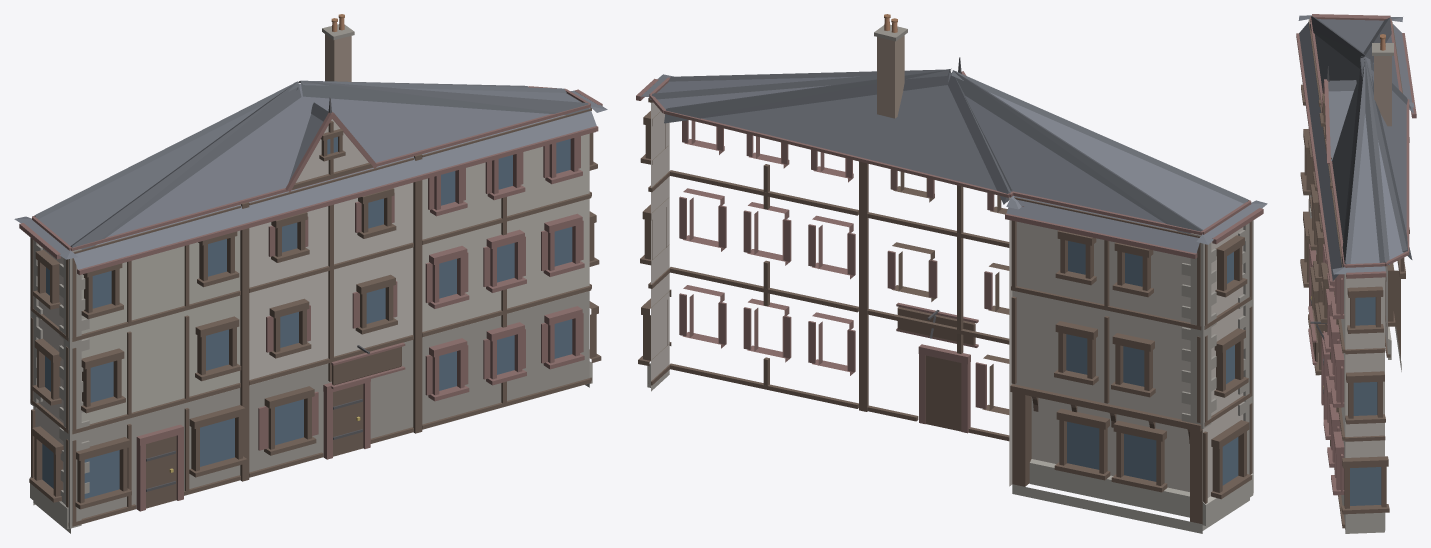
3 views of the same model, side by side, from view 1: azimuth 30°, elevation 25°; view 2: azimuth 150°, elevation 25°; view 3: azimuth 270°, elevation 25° (orthographic). The views are drawn at different scales.
Parts seen in each view (by area): view 1: B052_visible; view 2: B052_visible; view 3: B052_visible.
Boxes of the visible parts, x1,y1,x2,y2 form: B052_visible: (14,14,607,533); B052_visible: (636,14,1267,533); B052_visible: (1296,14,1416,533).
Size of the model in its own units: 20.45 by 14.49 by 3.98.
